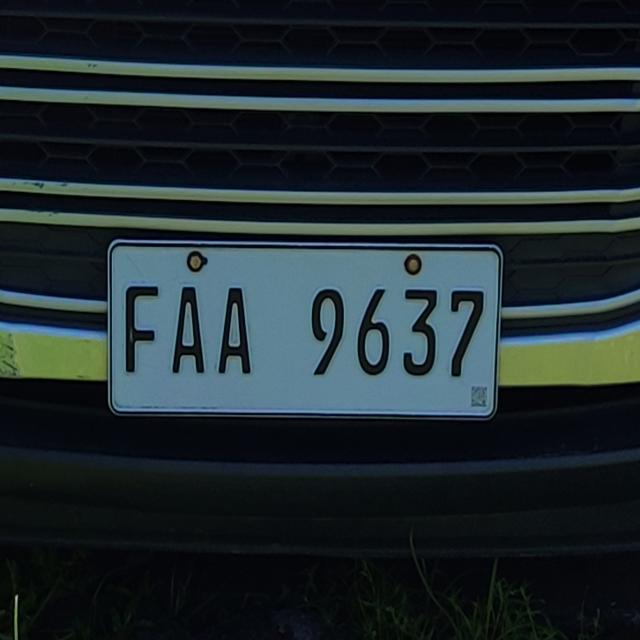plate: (98, 227, 514, 427)
